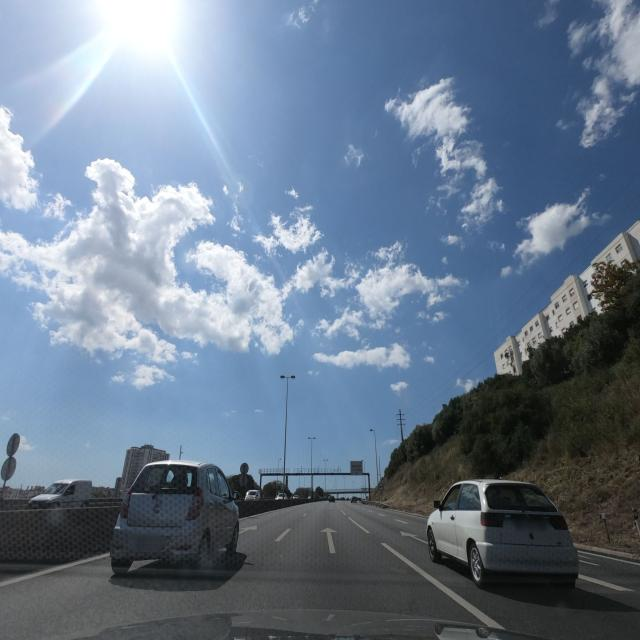car: (426, 478, 579, 589), (109, 460, 240, 576), (27, 480, 93, 510), (245, 490, 261, 500)
